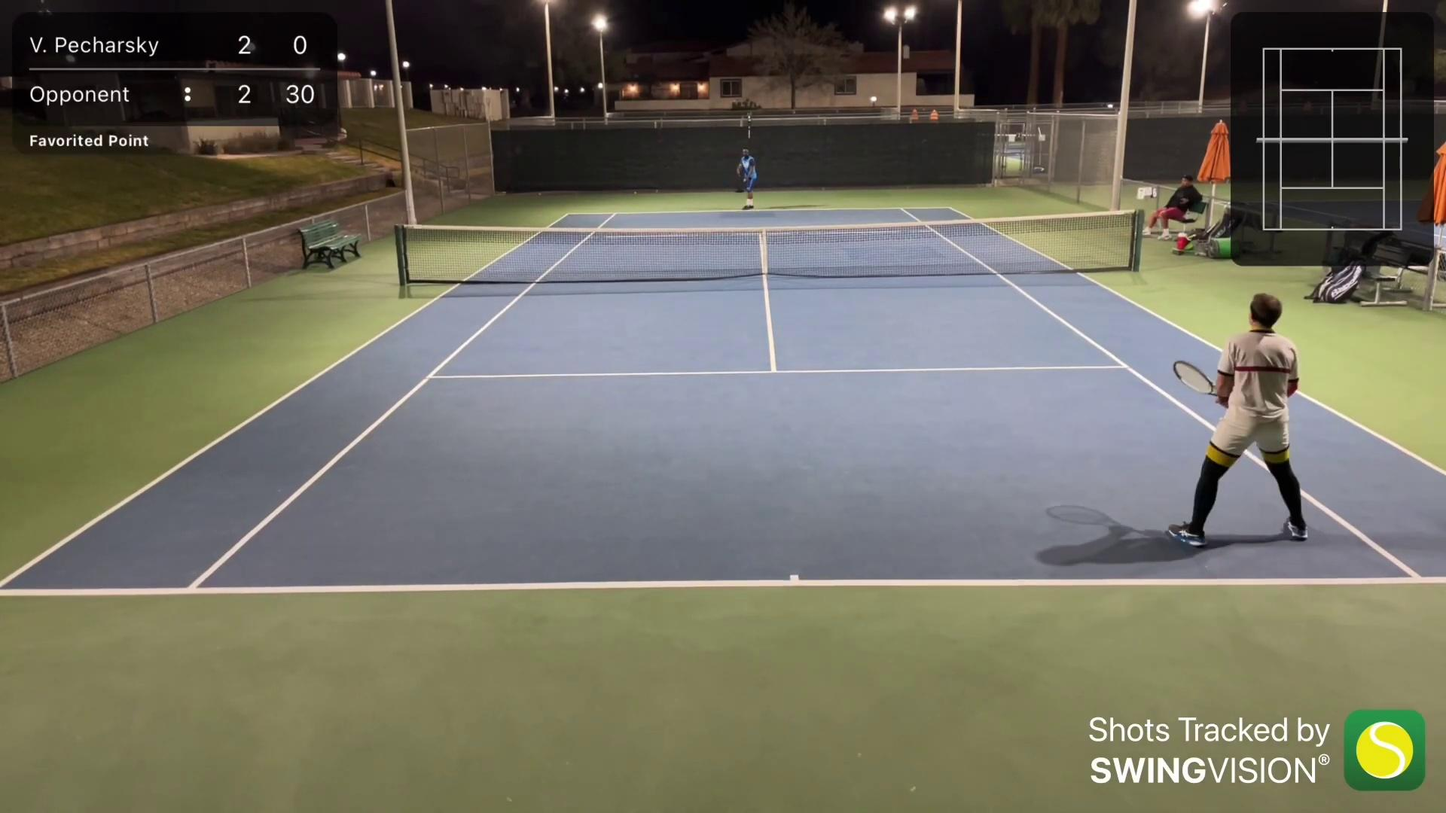ball: (740, 177, 748, 184), (631, 190, 639, 194), (537, 191, 543, 196)
